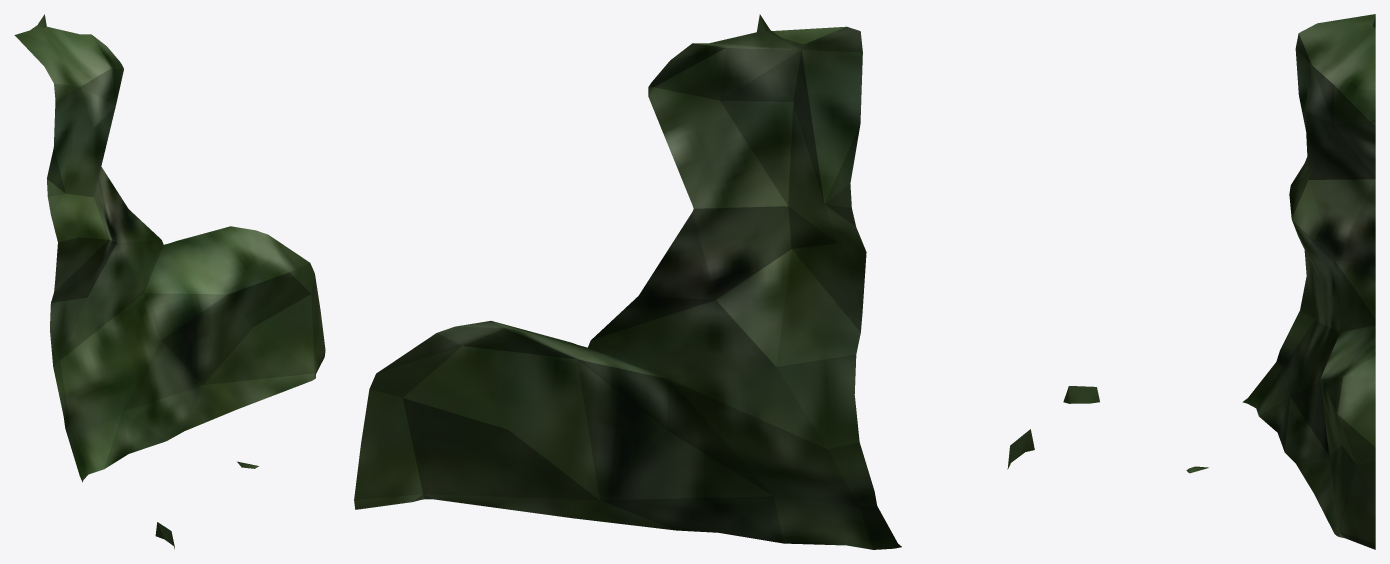
3 views of the same model, side by side, from view 1: azimuth 30°, elevation 25°; view 2: azimuth 150°, elevation 25°; view 3: azimuth 270°, elevation 25° (orthographic). The views are drawn at different scales.
Bounding box in the file's own units: 0.1845 × 0.2332 × 0.1644.
1 material, 1 textured.
